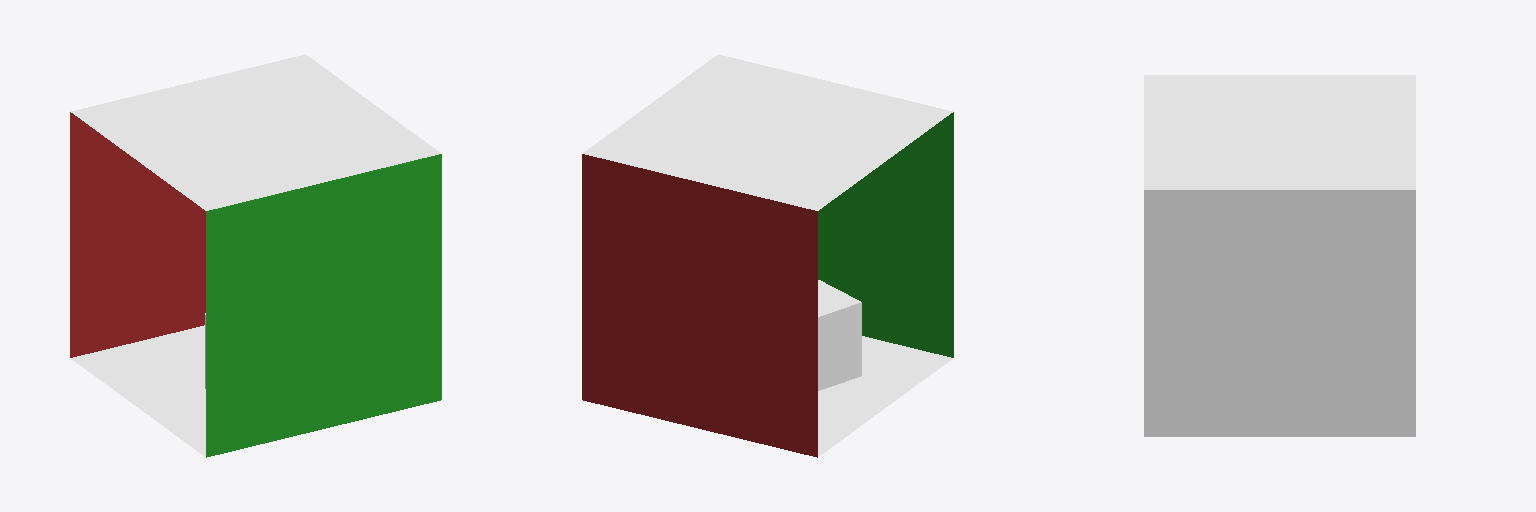
File: cbox.obj
The picture shows the model from 3 angles: view 1: azimuth 30°, elevation 25°; view 2: azimuth 150°, elevation 25°; view 3: azimuth 270°, elevation 25°; orthographic projection.
Parts seen in each view (by area): view 1: Cube1; view 2: Cube1; view 3: Cube1.
Part boxes in pixels (left/top/right/bottom): Cube1: left=70, top=54, right=441, bottom=457; Cube1: left=582, top=54, right=953, bottom=457; Cube1: left=1144, top=75, right=1415, bottom=436.
Size of the model in its own units: 2 by 2 by 2.